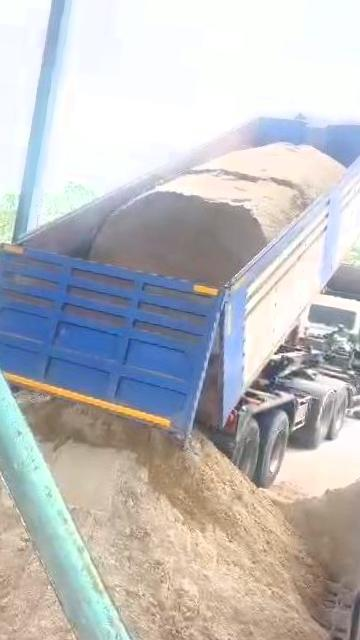sand: (24, 401, 326, 640), (90, 143, 344, 287), (0, 426, 92, 640), (282, 469, 360, 588), (197, 353, 219, 425)
